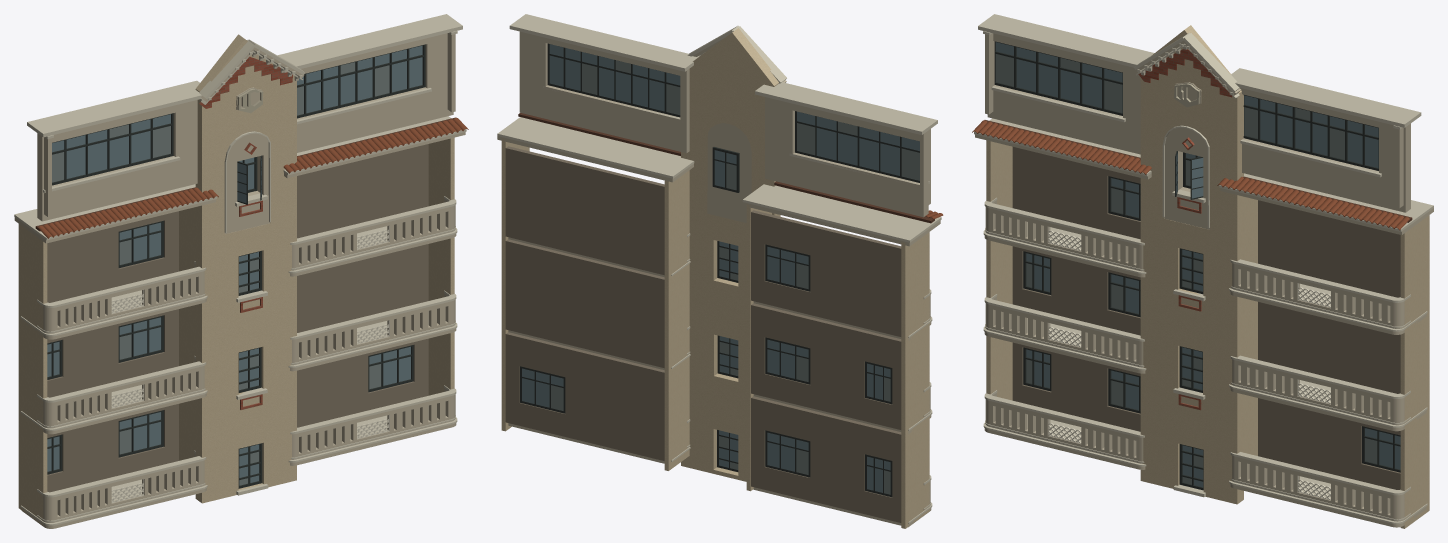
File: xuhui-gaoan-60-gabled-balcony-front-raw.glb
3 renders of one model, left to right at view 1: azimuth 30°, elevation 25°; view 2: azimuth 150°, elevation 25°; view 3: azimuth 330°, elevation 25°, orthographic. The views are drawn at different scales.
Visible parts, largest first — view 1: 高安路60号住宅中央山花与双列阳台; view 2: 高安路60号住宅中央山花与双列阳台; view 3: 高安路60号住宅中央山花与双列阳台.
Boxes of the visible parts, x1,y1,x2,y2 form: 高安路60号住宅中央山花与双列阳台: (14,14,468,528); 高安路60号住宅中央山花与双列阳台: (497,14,943,528); 高安路60号住宅中央山花与双列阳台: (972,14,1433,528).
Bounding box in the file's own units: 13.95 × 14.39 × 1.96.
12 materials, 2 textured.
